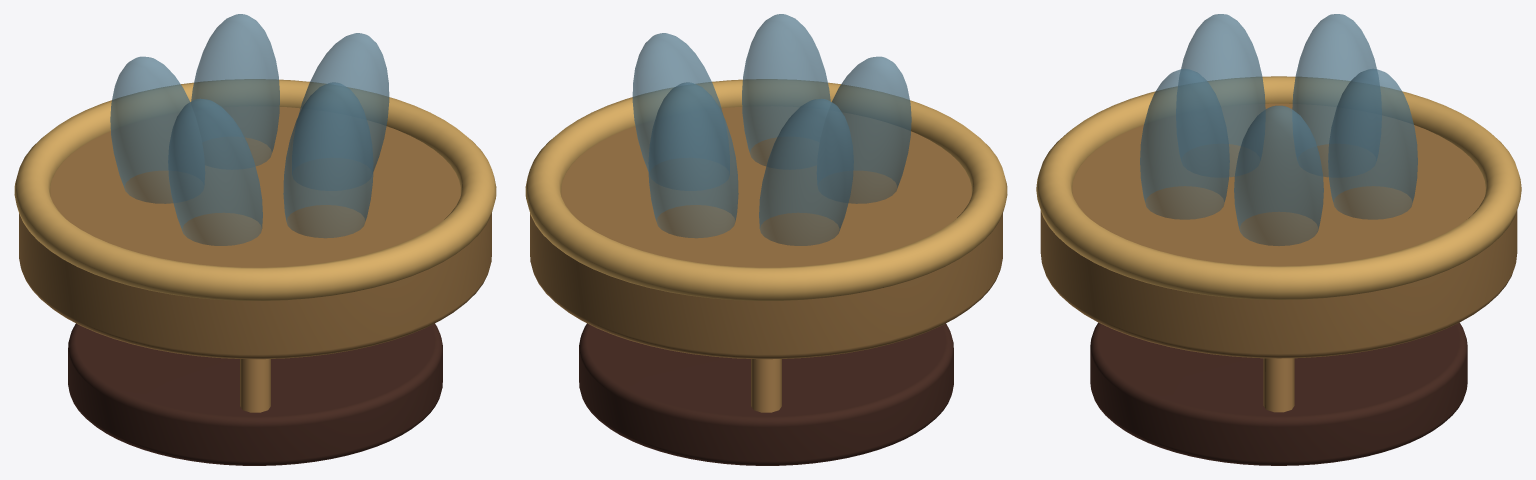
Rendered from gathering-brazier-v1.glb.
3 renders of one model, left to right at view 1: azimuth 30°, elevation 25°; view 2: azimuth 150°, elevation 25°; view 3: azimuth 270°, elevation 25°, orthographic.
Visible parts, largest first — view 1: BrazierBowl, BrazierFoot, BowlRim, HearthEmber.004, HearthEmber.003, HearthEmber.002, HearthEmber, HearthEmber.001, BrazierLeg.002; view 2: BrazierBowl, BrazierFoot, BowlRim, HearthEmber.001, HearthEmber.002, HearthEmber.003, HearthEmber, HearthEmber.004, BrazierLeg.001; view 3: BrazierBowl, BrazierFoot, BowlRim, HearthEmber.001, HearthEmber.004, HearthEmber, HearthEmber.002, HearthEmber.003, BrazierLeg.
Boxes of the visible parts, x1,y1,x2,y2 form: BrazierBowl: [19, 106, 491, 359]; BrazierFoot: [68, 323, 442, 465]; BowlRim: [14, 79, 496, 300]; HearthEmber.004: [283, 82, 373, 238]; HearthEmber.003: [168, 98, 262, 245]; HearthEmber.002: [110, 56, 204, 203]; HearthEmber: [292, 33, 389, 174]; HearthEmber.001: [191, 14, 279, 165]; BrazierLeg.002: [240, 359, 270, 412]; BrazierBowl: [530, 106, 1002, 359]; BrazierFoot: [579, 323, 953, 465]; BowlRim: [525, 79, 1007, 300]; HearthEmber.001: [648, 82, 738, 238]; HearthEmber.002: [759, 98, 853, 245]; HearthEmber.003: [817, 56, 911, 203]; HearthEmber: [632, 33, 729, 174]; HearthEmber.004: [742, 14, 830, 165]; BrazierLeg.001: [751, 359, 781, 412]; BrazierBowl: [1040, 103, 1517, 358]; BrazierFoot: [1090, 322, 1467, 465]; BowlRim: [1036, 76, 1521, 299]; HearthEmber.001: [1328, 68, 1417, 219]; HearthEmber.004: [1140, 68, 1229, 219]; HearthEmber: [1234, 105, 1323, 245]; HearthEmber.002: [1292, 14, 1381, 177]; HearthEmber.003: [1176, 14, 1265, 177]; BrazierLeg: [1263, 358, 1294, 412].
Size of the model in its own units: 1.08 by 0.8193 by 1.08.
